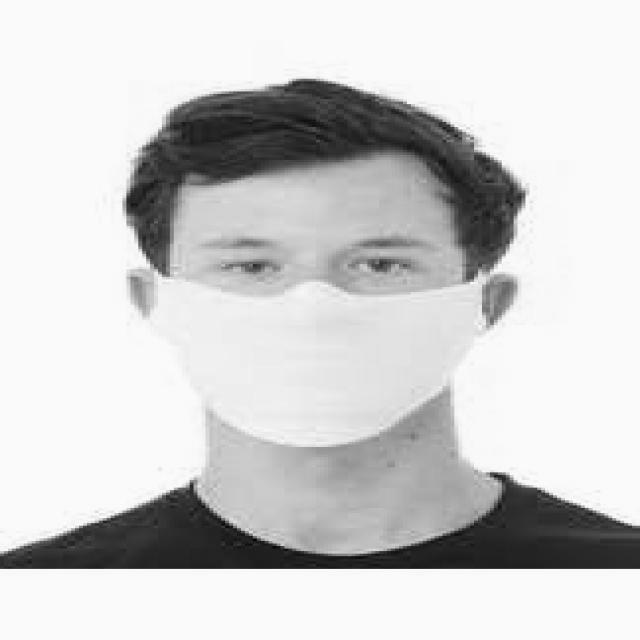fake: (116, 246, 518, 454)
real: (165, 165, 467, 456)
